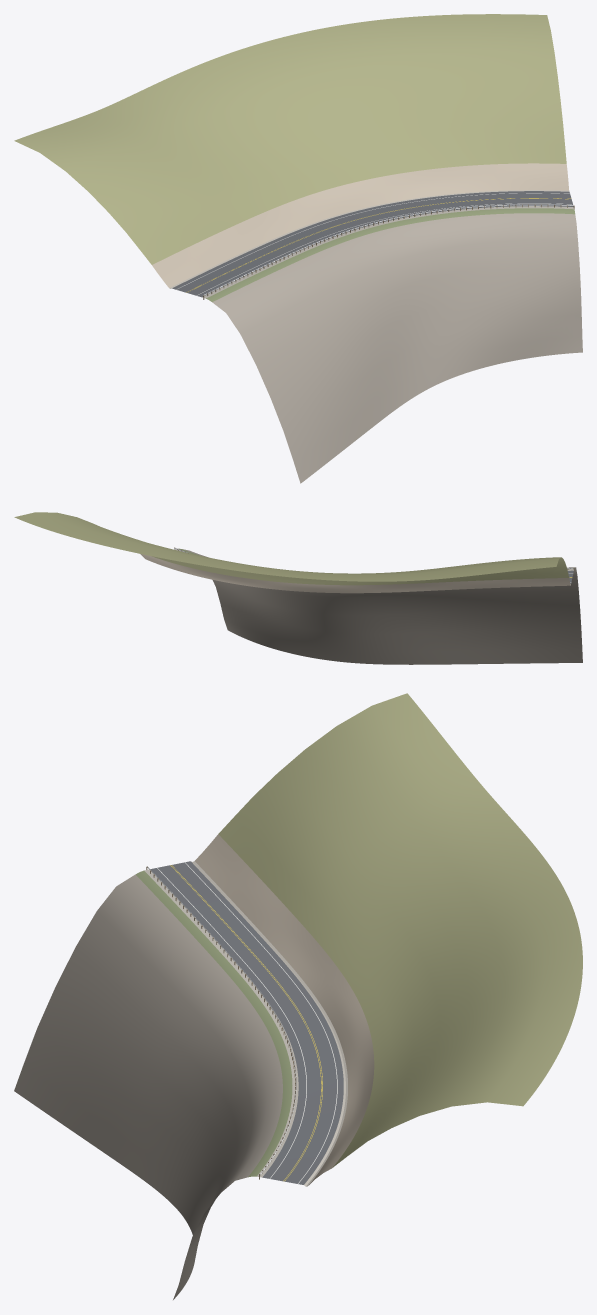
3 views of the same model, one above another, from view 1: azimuth 30°, elevation 25°; view 2: azimuth 150°, elevation 25°; view 3: azimuth 270°, elevation 25° (orthographic). The views are drawn at different scales.
Visible parts, largest first — view 1: Hillside, Cliff, RoadCut, Asphalt, Verge, Gravel, EdgeLines; view 2: Cliff, Hillside, RoadCut; view 3: Hillside, Cliff, Asphalt, RoadCut, Gravel, Verge, EdgeLines.
Boxes of the visible parts, x1,y1,x2,y2 form: Hillside: (14,14,566,264); Cliff: (212,213,582,483); RoadCut: (152,163,569,287); Asphalt: (172,191,573,297); Verge: (206,208,575,301); Gravel: (169,190,574,298); EdgeLines: (176,193,571,295); Cliff: (183,549,582,664); Hillside: (14,512,569,585); RoadCut: (140,554,570,593); Hillside: (218,693,582,1167); Cliff: (14,874,282,1299); Asphalt: (150,861,343,1184); RoadCut: (195,834,374,1184); Gravel: (144,861,347,1186); Verge: (136,870,292,1177); EdgeLines: (157,862,337,1183).
Size of the model in its own units: 191 by 81.29 by 131.
